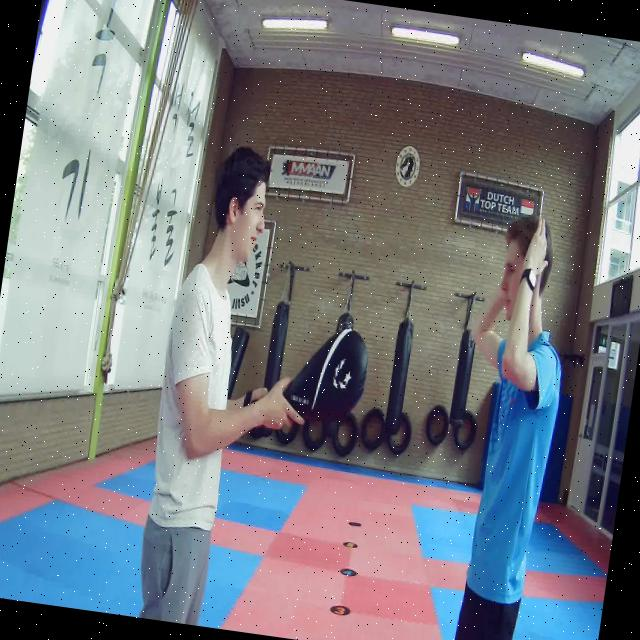paddle: (280, 329, 367, 419)
